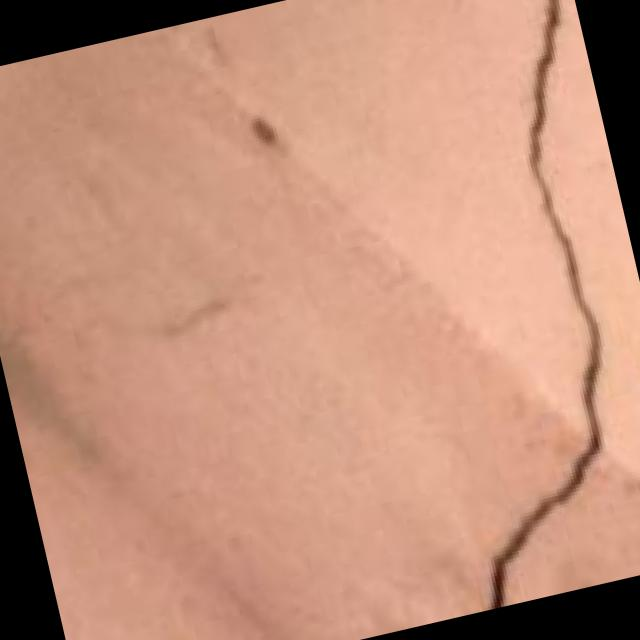crack: (349, 0, 640, 606)
